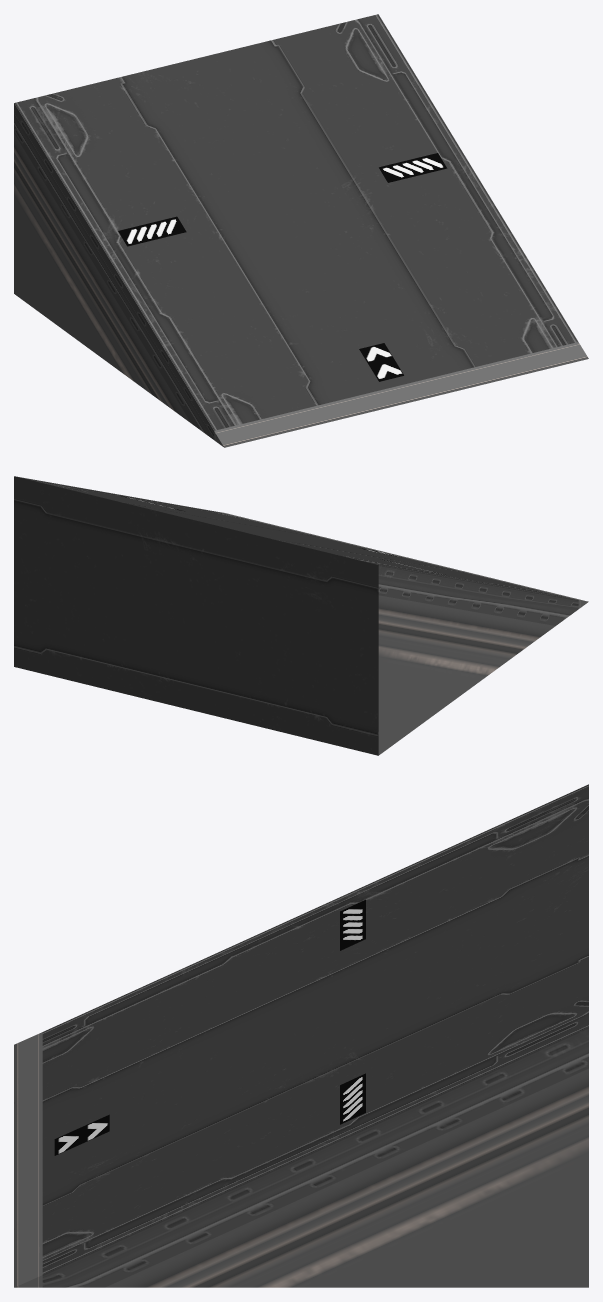
Rendered from Platform_Ramp_2.gltf.
3 views of the same model, one above another, from view 1: azimuth 30°, elevation 25°; view 2: azimuth 150°, elevation 25°; view 3: azimuth 270°, elevation 25° (orthographic). The views are drawn at different scales.
Parts seen in each view (by area): view 1: Platform_Ramp_2; view 2: Platform_Ramp_2; view 3: Platform_Ramp_2.
Boxes of the visible parts, <box> form: Platform_Ramp_2: <box>14,14,588,447</box>; Platform_Ramp_2: <box>14,476,588,755</box>; Platform_Ramp_2: <box>14,784,588,1287</box>.
Size of the model in its own units: 2 by 1 by 2.
3 materials, 3 textured.
